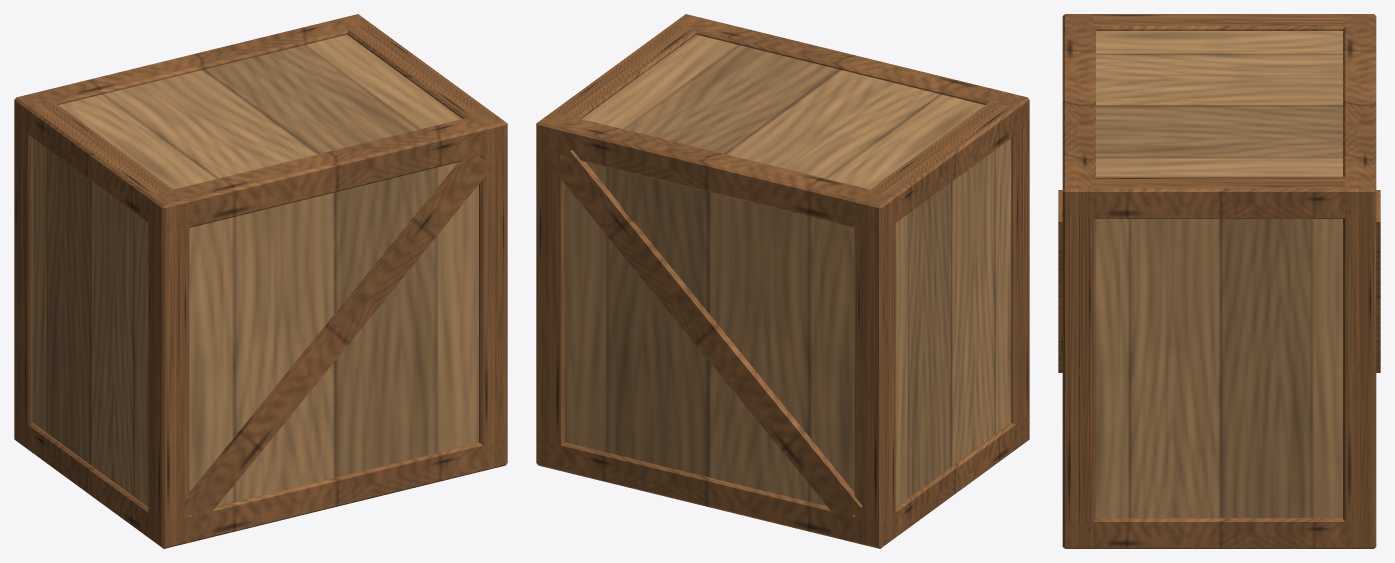
Rendered from OB_Skrzynia.fbx.
The picture shows the model from 3 angles, left to right: view 1: azimuth 30°, elevation 25°; view 2: azimuth 150°, elevation 25°; view 3: azimuth 270°, elevation 25°; orthographic projection. The views are drawn at different scales.
Parts seen in each view (by area): view 1: Skrzynia; view 2: Skrzynia; view 3: Skrzynia.
Boxes of the visible parts, x1,y1,x2,y2 form: Skrzynia: (14,14,507,548); Skrzynia: (536,14,1029,548); Skrzynia: (1058,14,1380,548).
Size of the model in its own units: 1 by 0.95 by 0.77.
